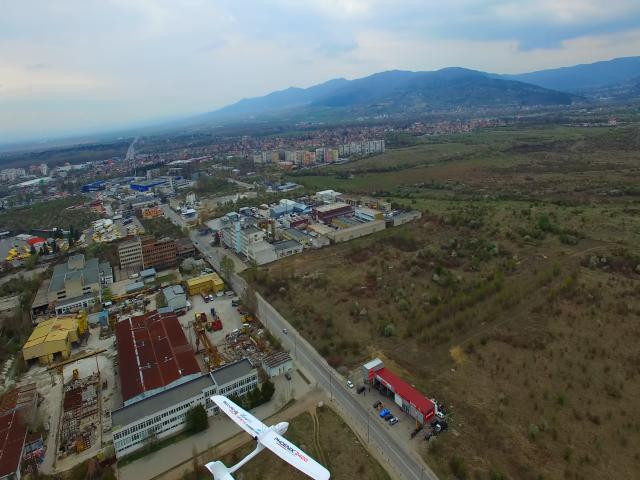plane: (204, 393, 330, 480)
